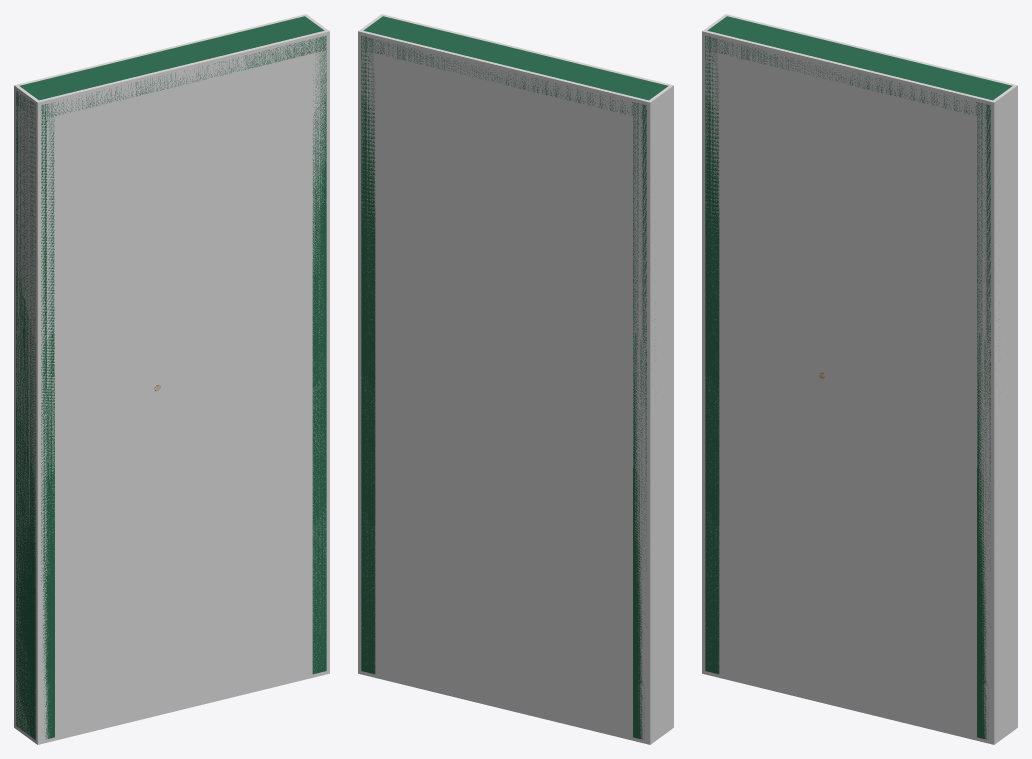
The model's file is interior-door_luxury.glb.
3 views of the same model, side by side, from view 1: azimuth 30°, elevation 25°; view 2: azimuth 150°, elevation 25°; view 3: azimuth 330°, elevation 25° (orthographic).
Visible parts, largest first — view 1: COL_interior-door, MESH_FrameSide, MESH_FrameSide.001, MESH_FrameTop; view 2: COL_interior-door, MESH_FrameSide.001, MESH_FrameTop, MESH_FrameSide; view 3: COL_interior-door, MESH_FrameSide, MESH_FrameTop, MESH_FrameSide.001.
Part boxes in pixels (bbox=[...]): COL_interior-door: bbox=[14, 14, 329, 744]; MESH_FrameSide: bbox=[16, 90, 54, 739]; MESH_FrameSide.001: bbox=[312, 36, 326, 674]; MESH_FrameTop: bbox=[16, 16, 326, 116]; COL_interior-door: bbox=[358, 14, 673, 744]; MESH_FrameSide.001: bbox=[361, 36, 375, 674]; MESH_FrameTop: bbox=[362, 16, 668, 118]; MESH_FrameSide: bbox=[633, 102, 654, 739]; COL_interior-door: bbox=[702, 14, 1017, 744]; MESH_FrameSide: bbox=[705, 36, 719, 674]; MESH_FrameTop: bbox=[706, 16, 1012, 118]; MESH_FrameSide.001: bbox=[977, 102, 998, 739].
Size of the model in its own units: 1 by 2.1 by 0.14.
